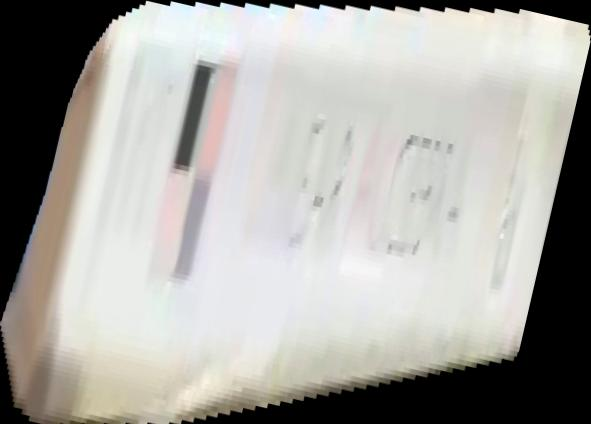flat: (1, 1, 591, 424)
